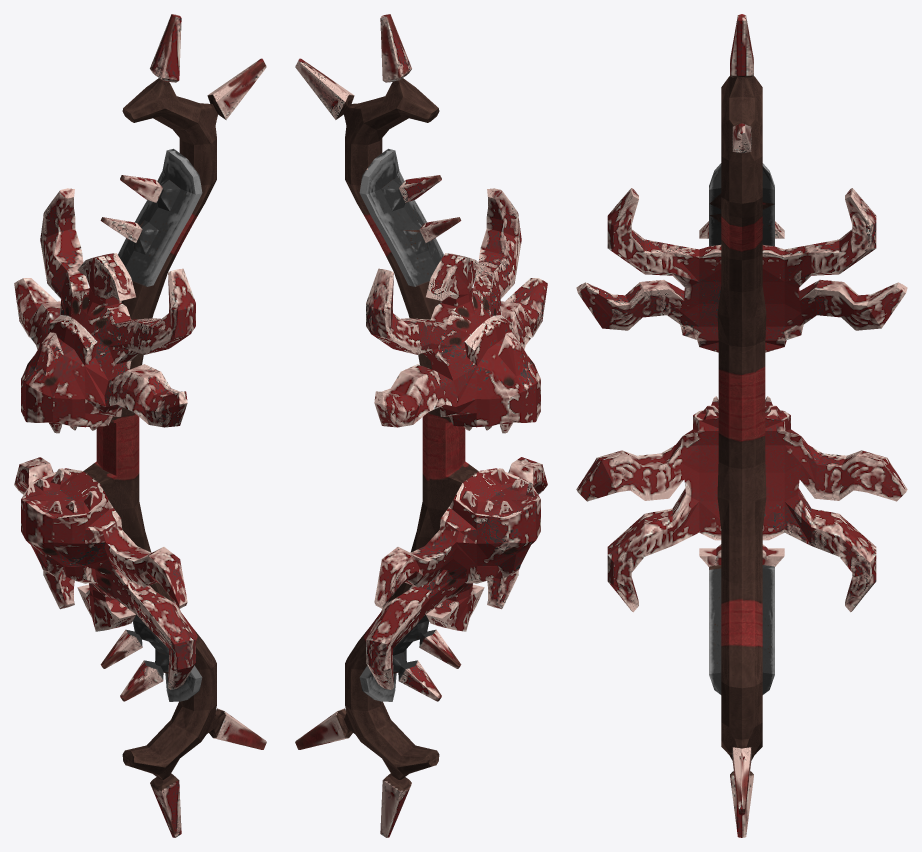
Rendered from Red Bone Bow.fbx.
The picture shows the model from 3 angles, left to right: view 1: azimuth 30°, elevation 25°; view 2: azimuth 150°, elevation 25°; view 3: azimuth 270°, elevation 25°; orthographic projection.
Visible parts, largest first — view 1: Red_Bone_Bow; view 2: Red_Bone_Bow; view 3: Red_Bone_Bow.
Boxes of the visible parts, x1,y1,x2,y2 form: Red_Bone_Bow: (14, 14, 266, 837); Red_Bone_Bow: (295, 14, 547, 837); Red_Bone_Bow: (576, 14, 907, 837).
Size of the model in its own units: 160 by 525 by 191.
